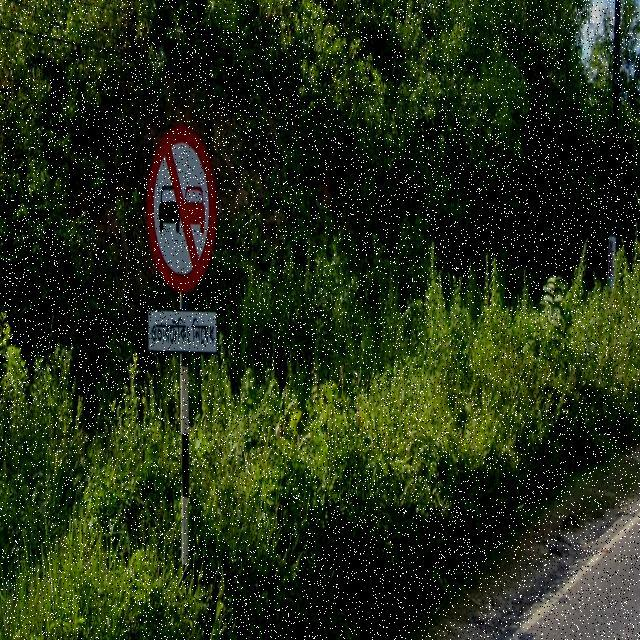Don-t-Overtracking: (131, 100, 237, 380)
